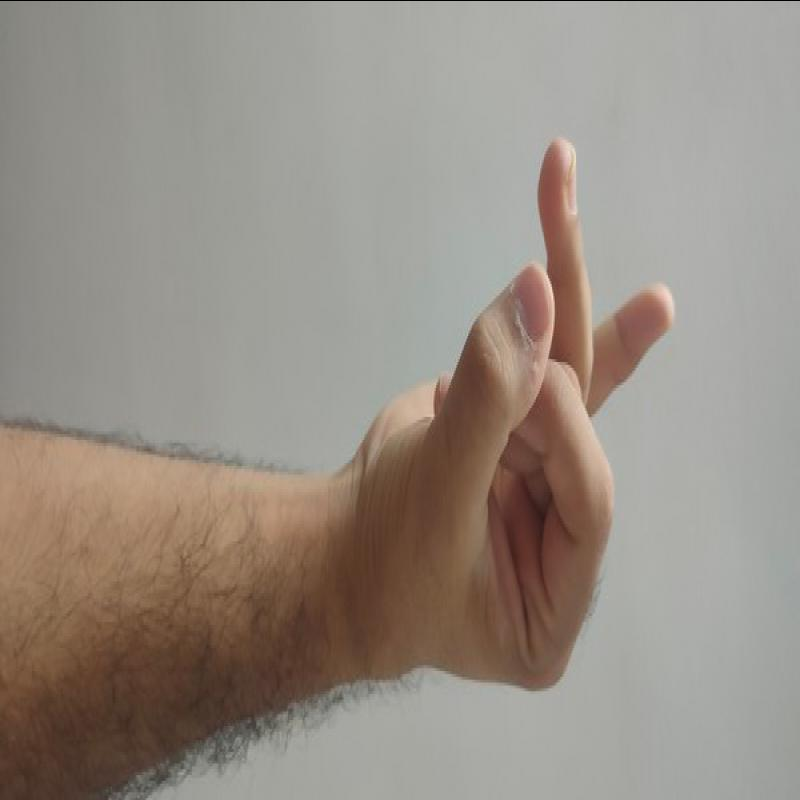Katakam: (329, 131, 695, 705)
